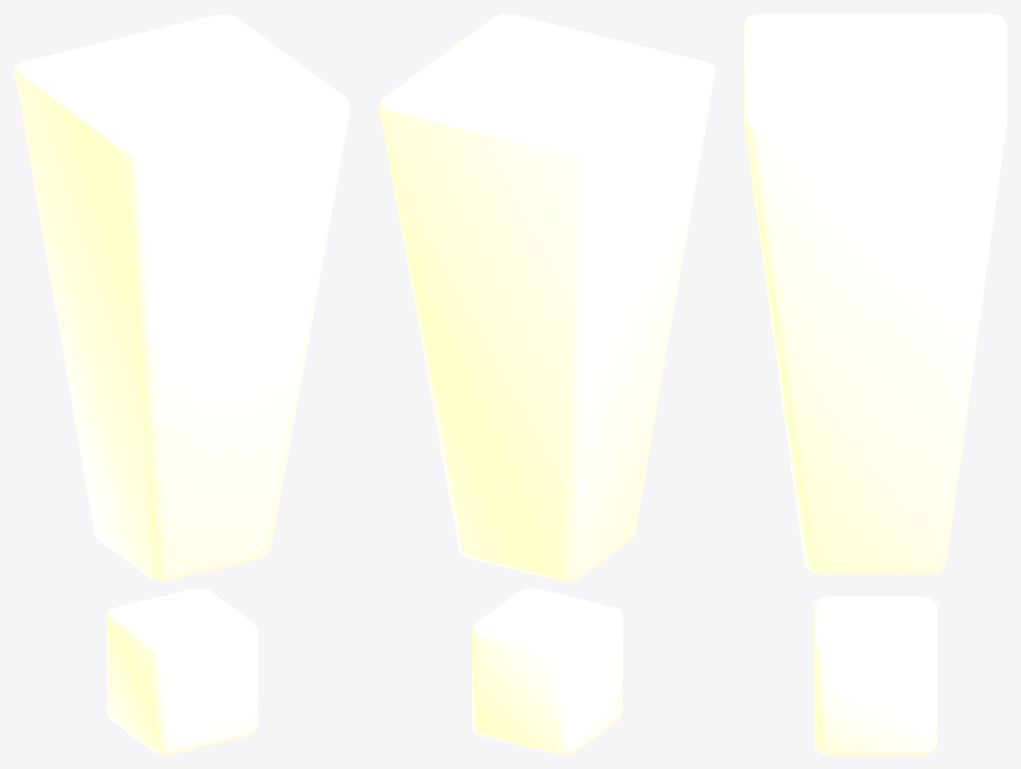
File: Exclamacao.fbx
The picture shows the model from 3 angles, left to right: view 1: azimuth 30°, elevation 25°; view 2: azimuth 150°, elevation 25°; view 3: azimuth 270°, elevation 25°; orthographic projection. The views are drawn at different scales.
Visible parts, largest first — view 1: Exclamacao; view 2: Exclamacao; view 3: Exclamacao.
Boxes of the visible parts, <box> form: Exclamacao: <box>14,14,350,754</box>; Exclamacao: <box>379,14,715,754</box>; Exclamacao: <box>744,14,1006,754</box>.
Bounding box in the file's own units: 6.49 × 18.08 × 6.49.
